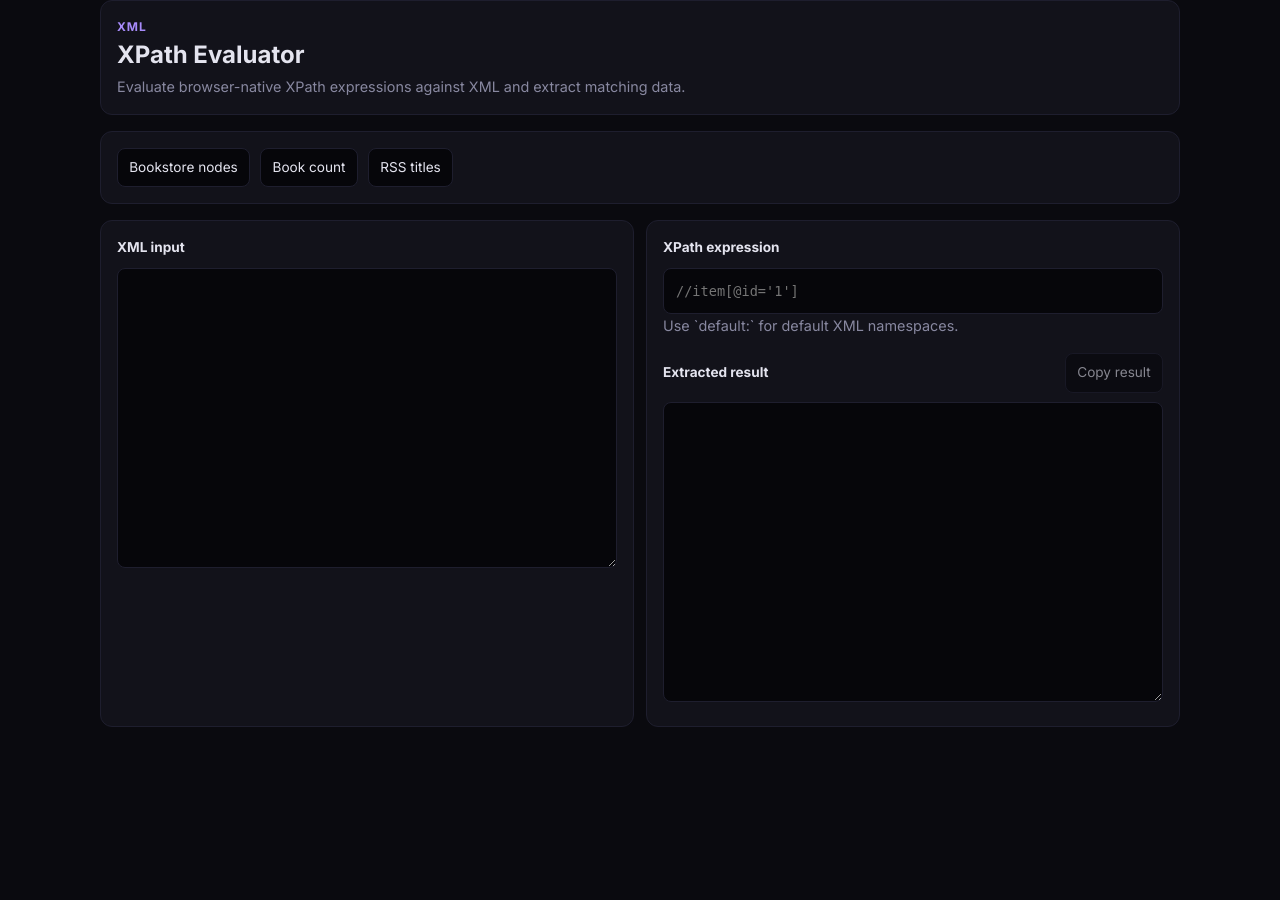
XpathTool › loads an XML and XPath sample preset
What coordinates should you click on to do the following:
click the button with aria-label "Load Bookstore nodes sample"
I would click on:
 (183, 168)
Its box is [117, 148, 250, 187].
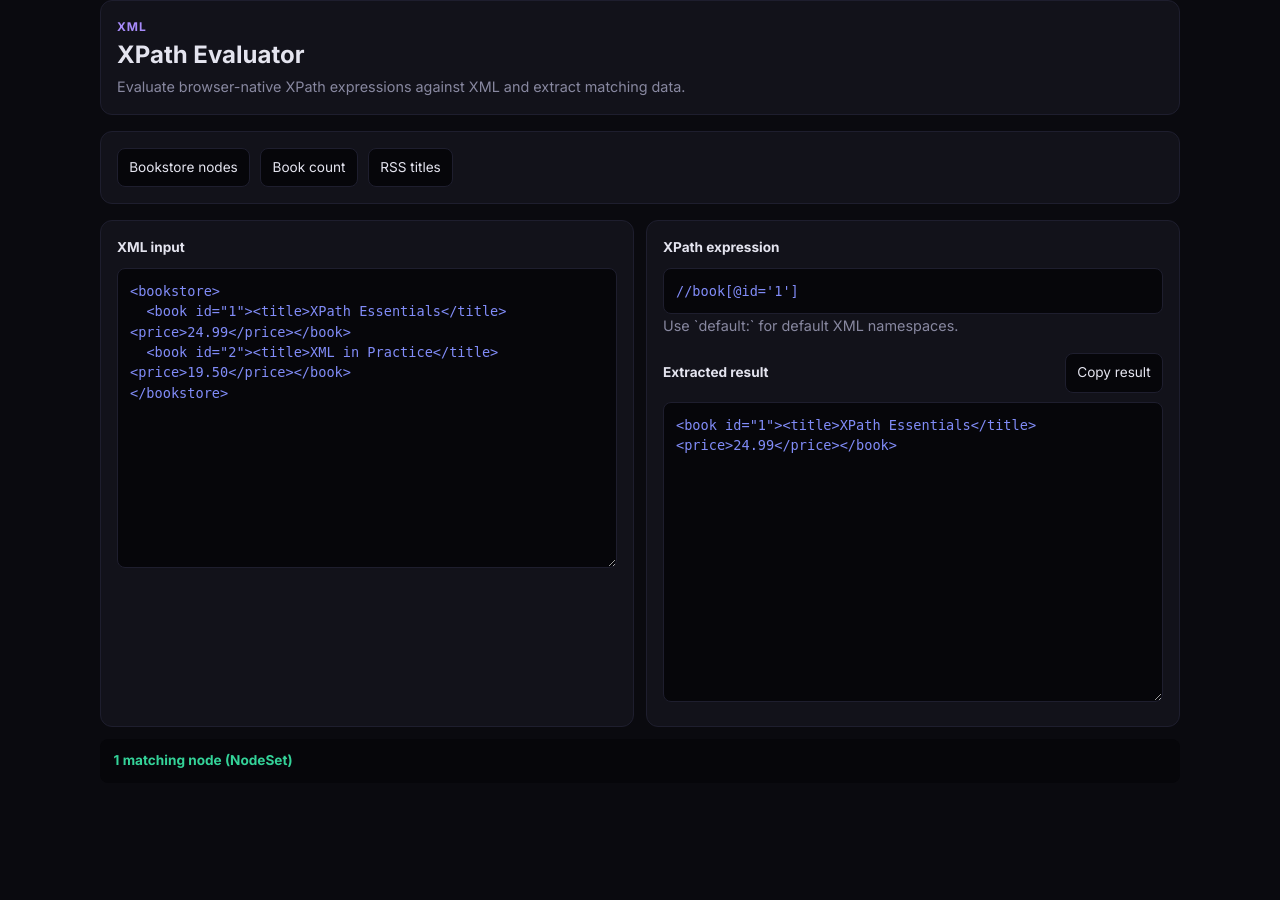
Expected: the field labelled "XPath expression" holds "//book[@id='1']", [663, 268, 1163, 314]
